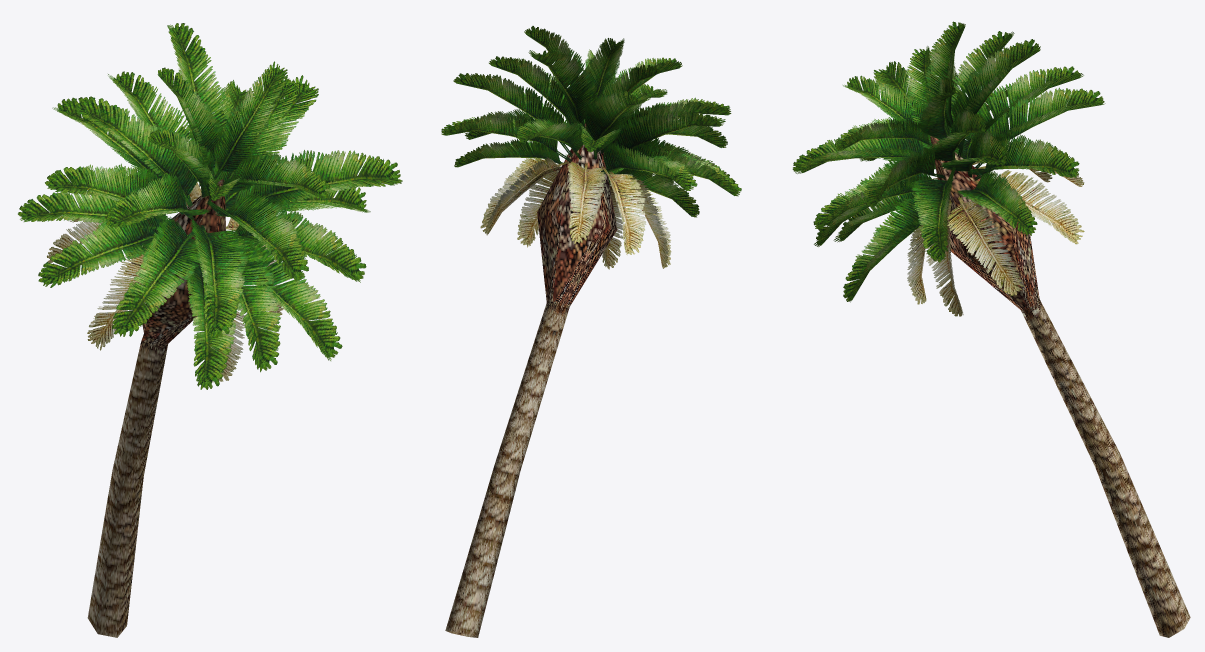
Rendered from tree_cretan_date_palm_07.glb.
3 renders of one model, left to right at view 1: azimuth 30°, elevation 25°; view 2: azimuth 150°, elevation 25°; view 3: azimuth 270°, elevation 25°, orthographic. The views are drawn at different scales.
Parts seen in each view (by area): view 1: tree_cretan_date_palm_07; view 2: tree_cretan_date_palm_07; view 3: tree_cretan_date_palm_07.
Boxes of the visible parts, x1,y1,x2,y2 form: tree_cretan_date_palm_07: (18, 23, 402, 637); tree_cretan_date_palm_07: (441, 26, 741, 637); tree_cretan_date_palm_07: (792, 21, 1190, 637).
Bounding box in the file's own units: 9.3 × 17.72 × 10.99.
Materials: 1 (1 with a texture image).
